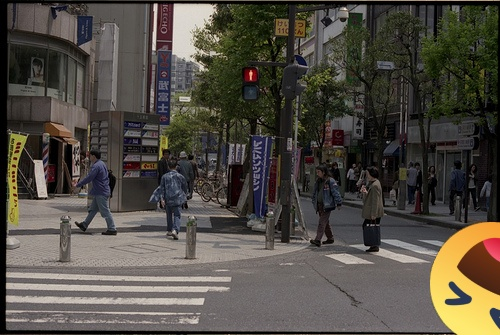haha: (430, 222, 500, 335)
